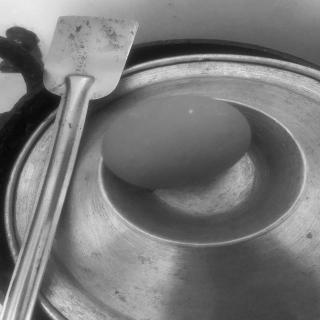Telur: (98, 93, 253, 192)
